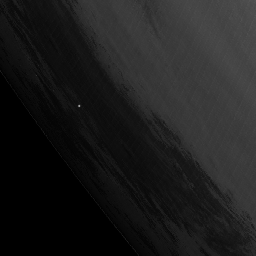Target: (77, 103, 81, 108)
